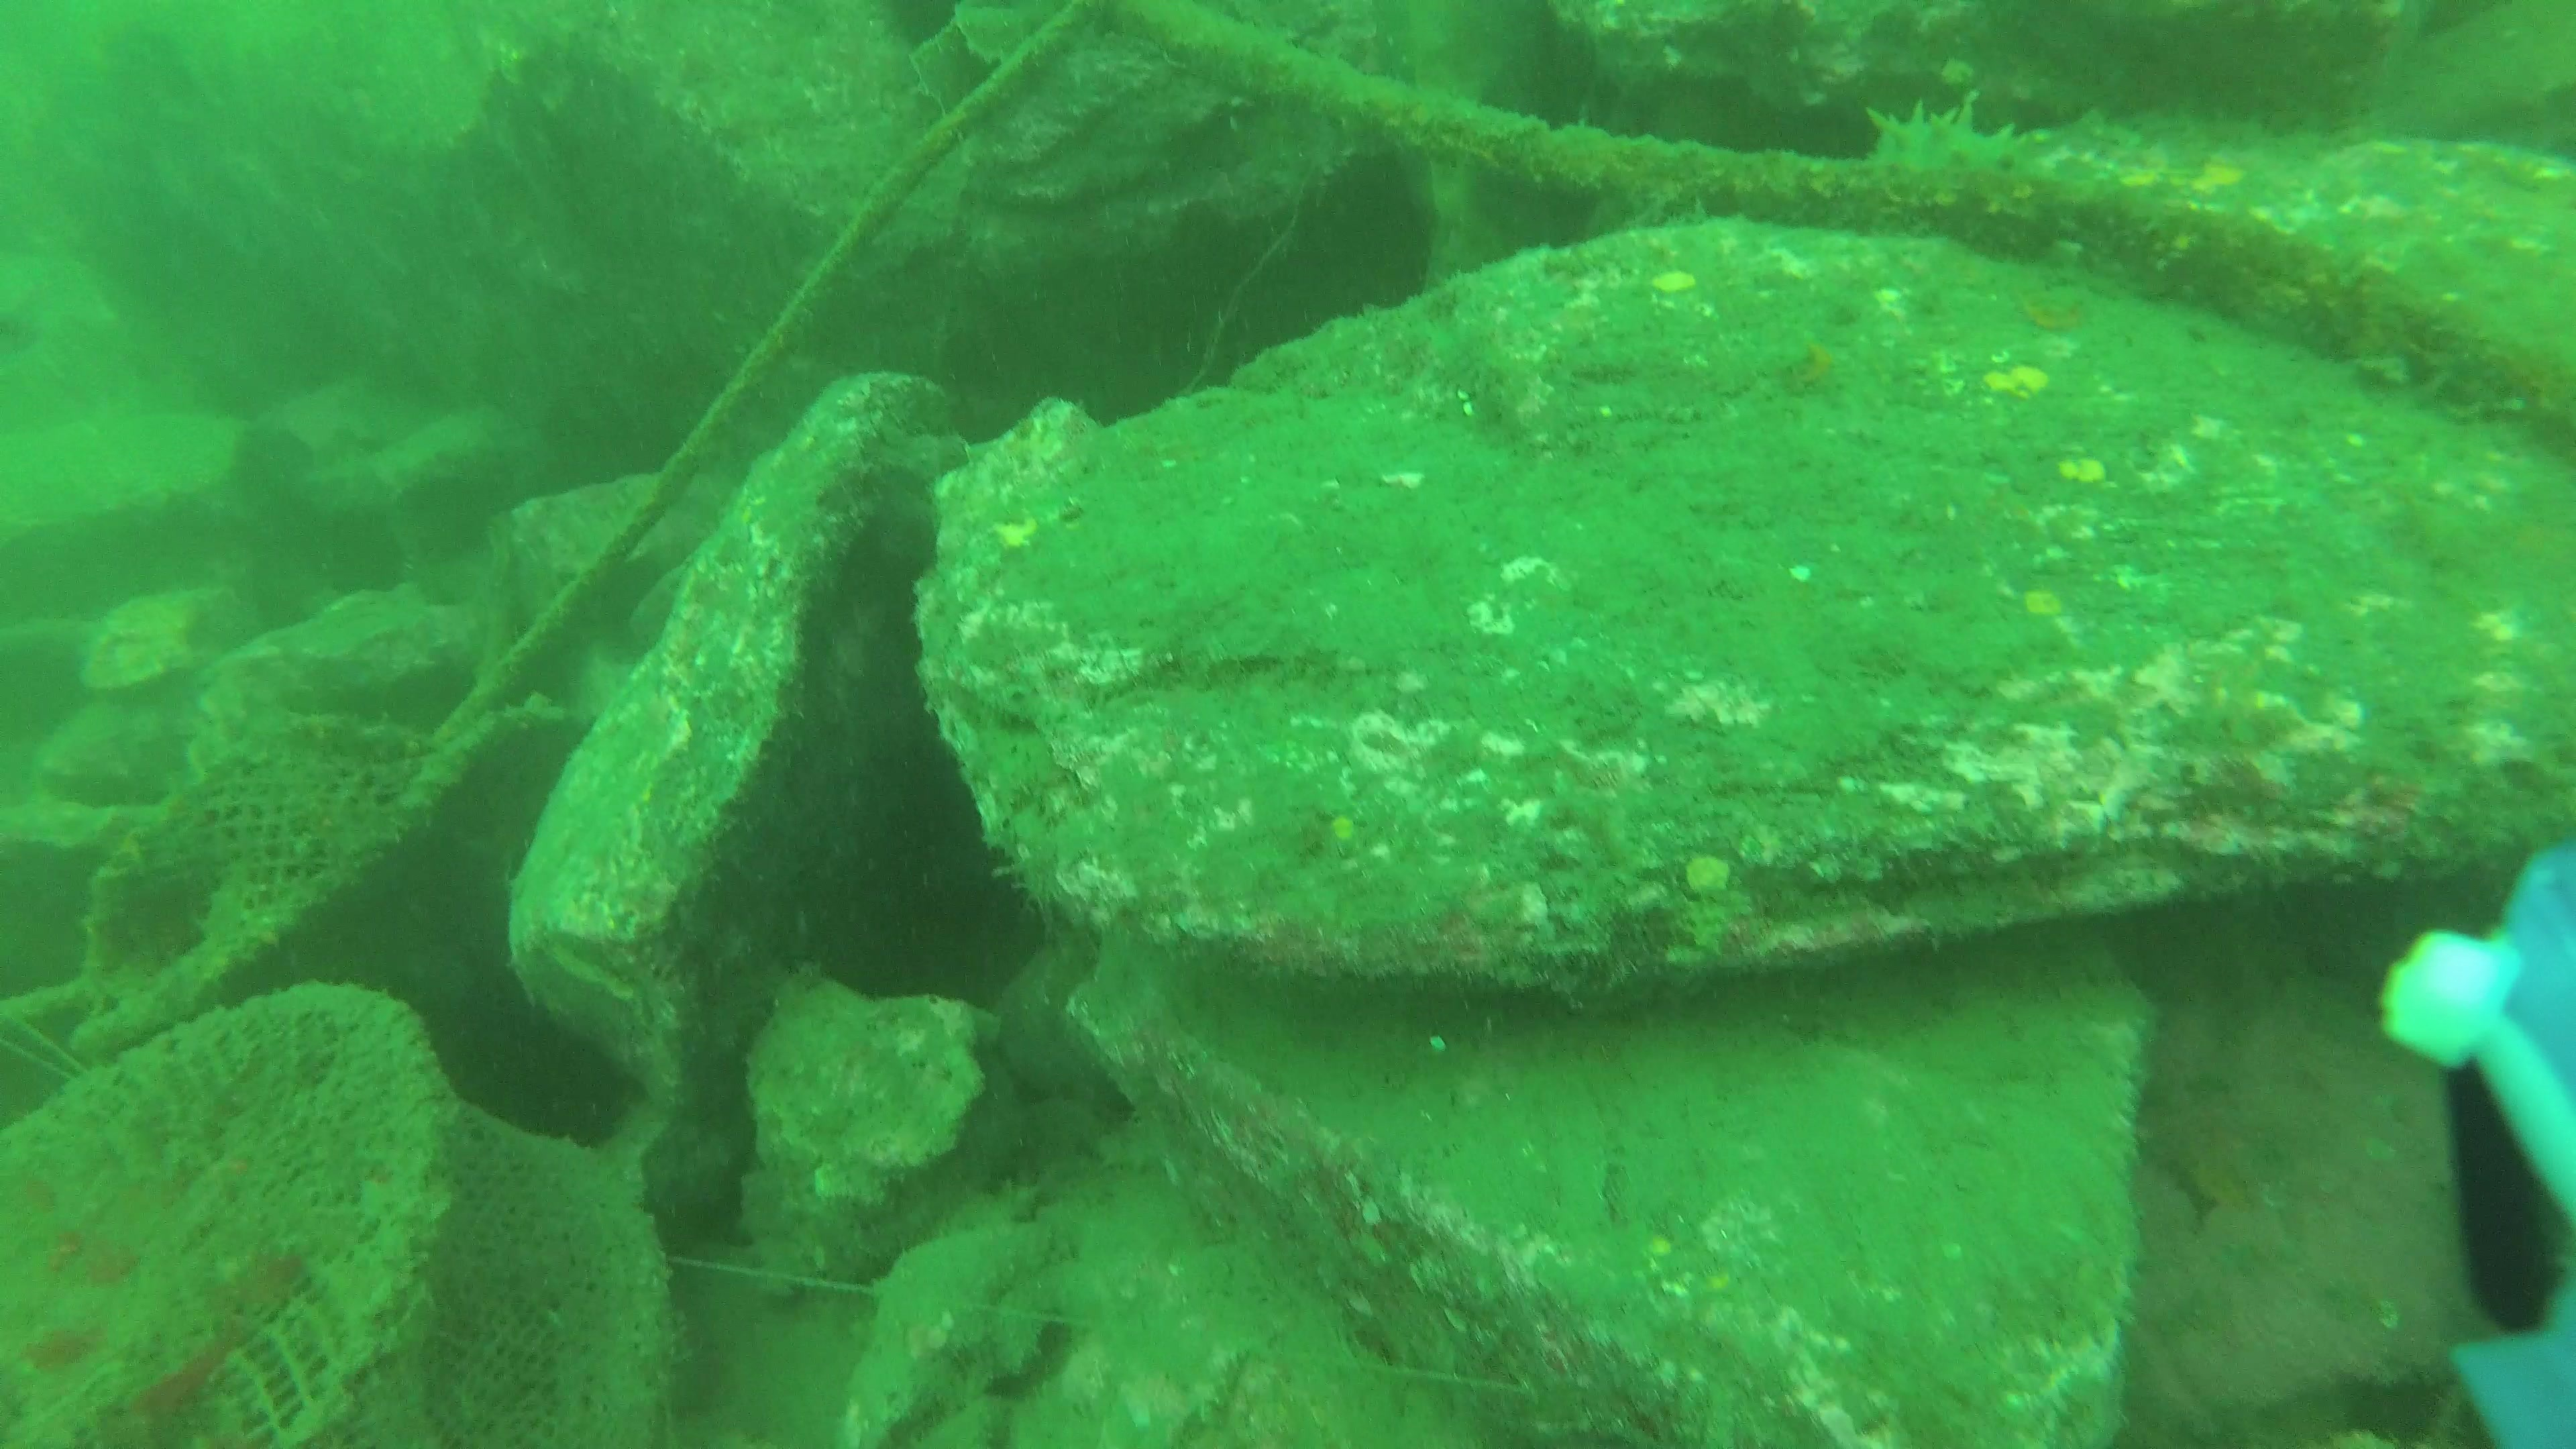holothurian: (1849, 94, 2054, 189)
